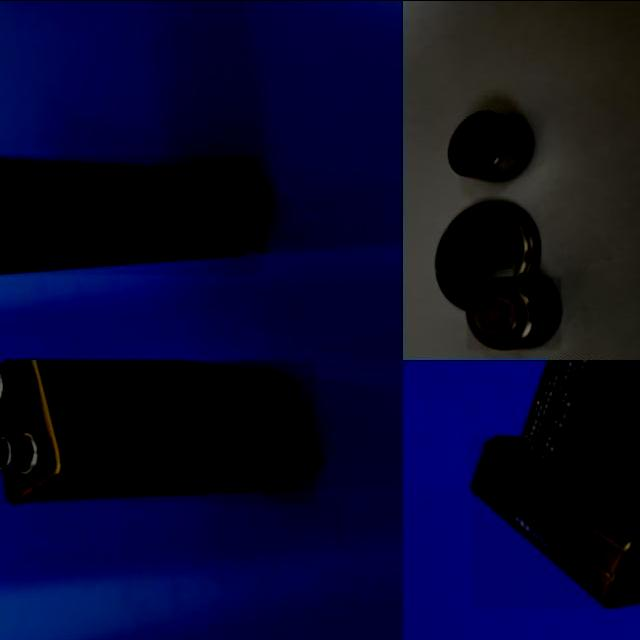9V: (0, 359, 317, 503), (0, 154, 262, 274), (471, 434, 640, 609), (515, 359, 640, 483)
